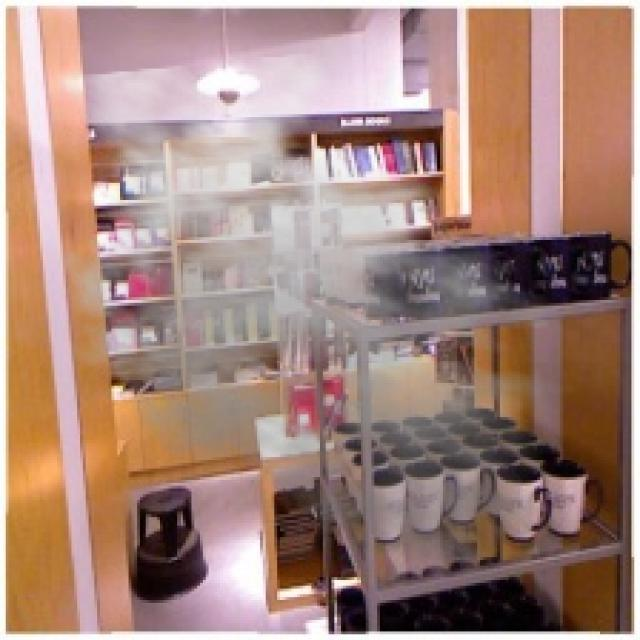Smoke: (40, 51, 606, 572)
